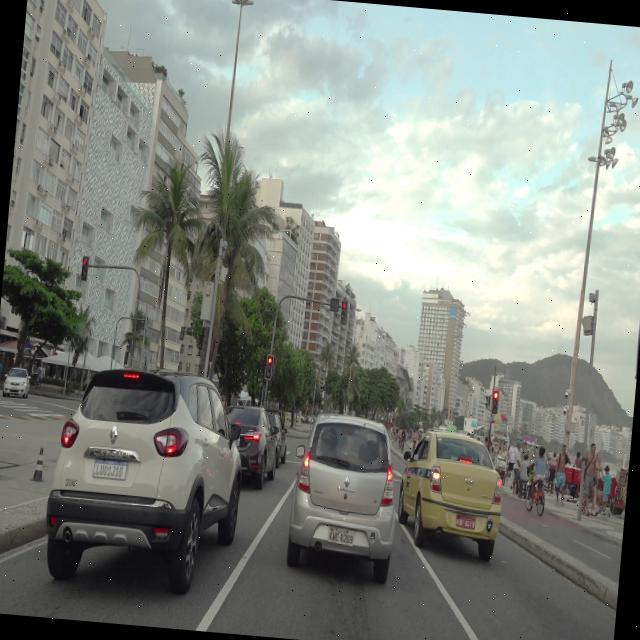License-plate: (92, 456, 128, 479), (328, 528, 357, 548), (454, 512, 476, 531)
